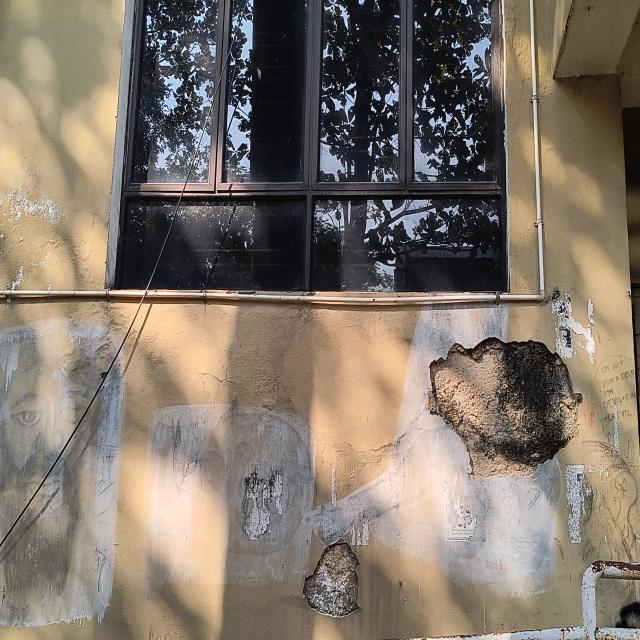peeling: (428, 338, 582, 479), (0, 166, 86, 289), (303, 539, 359, 618), (242, 468, 284, 540)
stain_mould: (582, 562, 639, 580)
